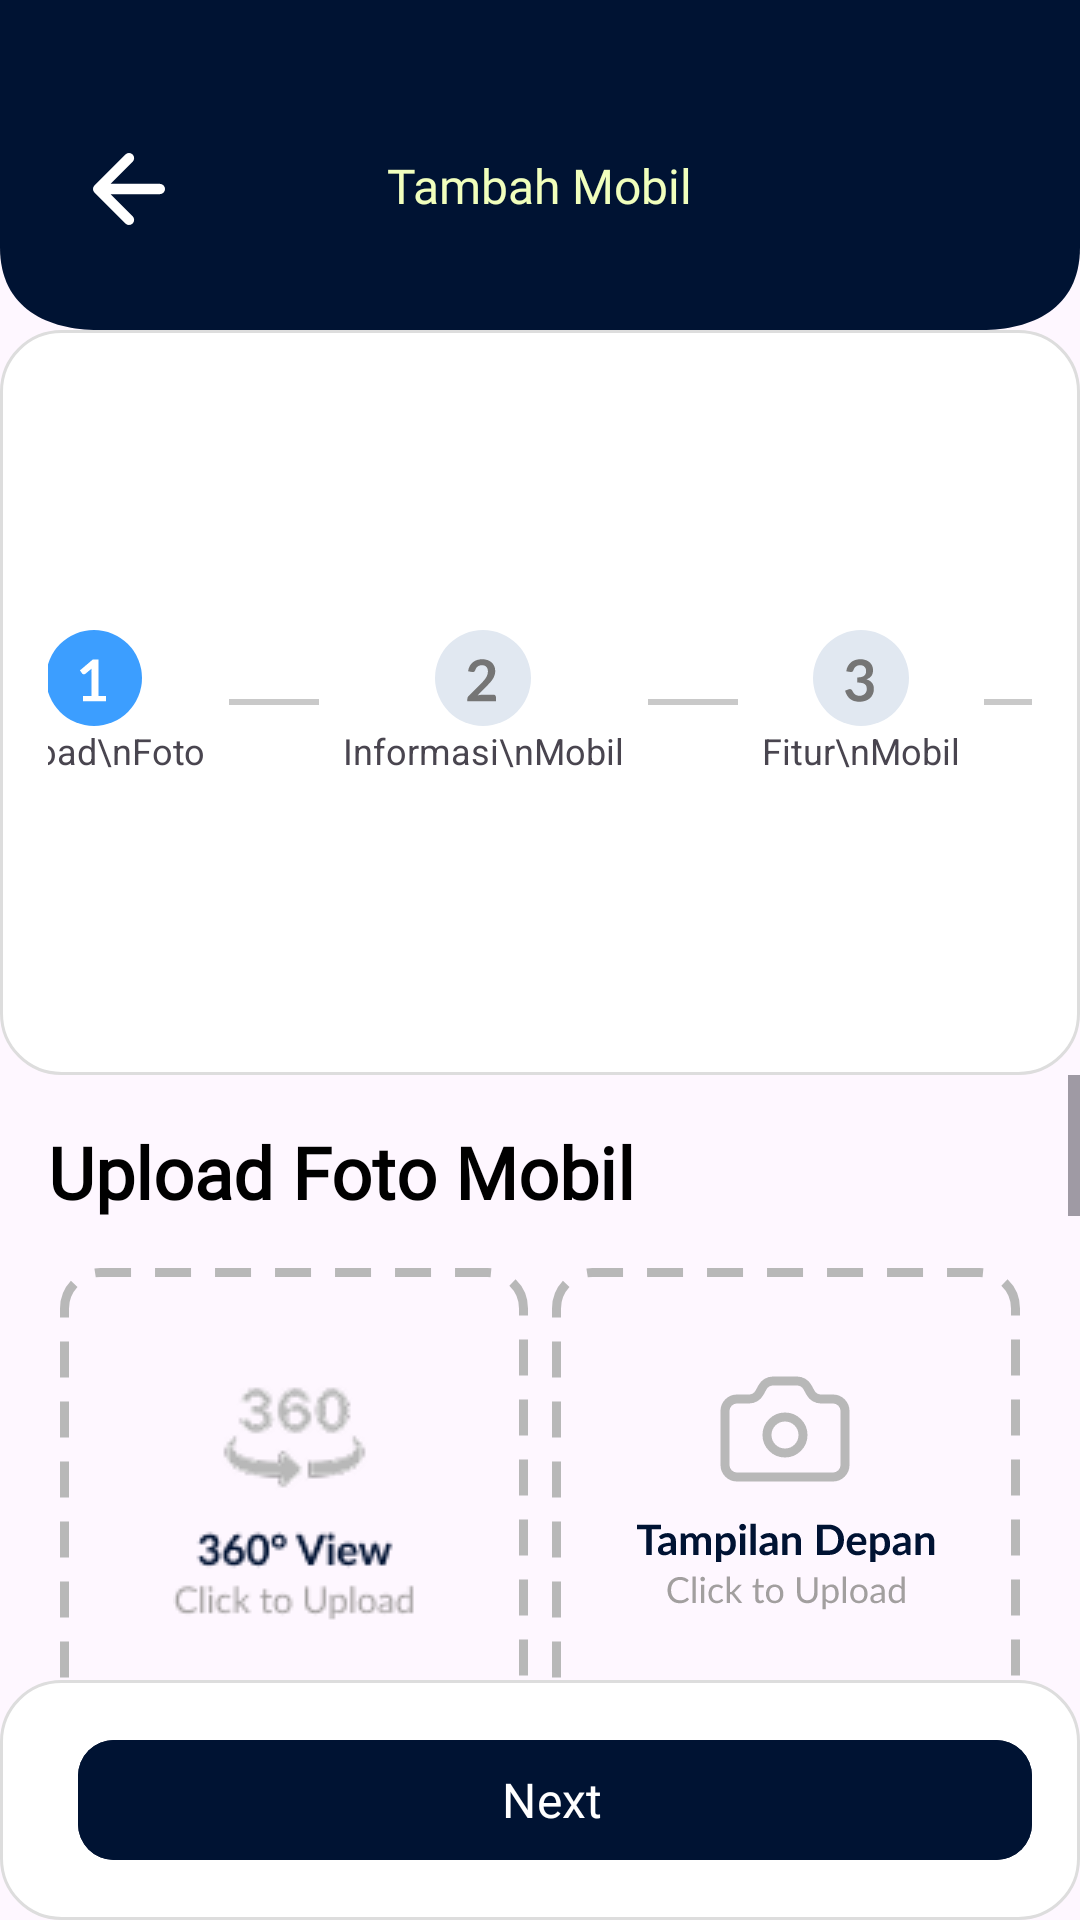

Locate icon controls on the screen. Image size 1080px×1920px, boxes as (x1, y1, x2, y2).
back: (93, 153, 165, 225)
